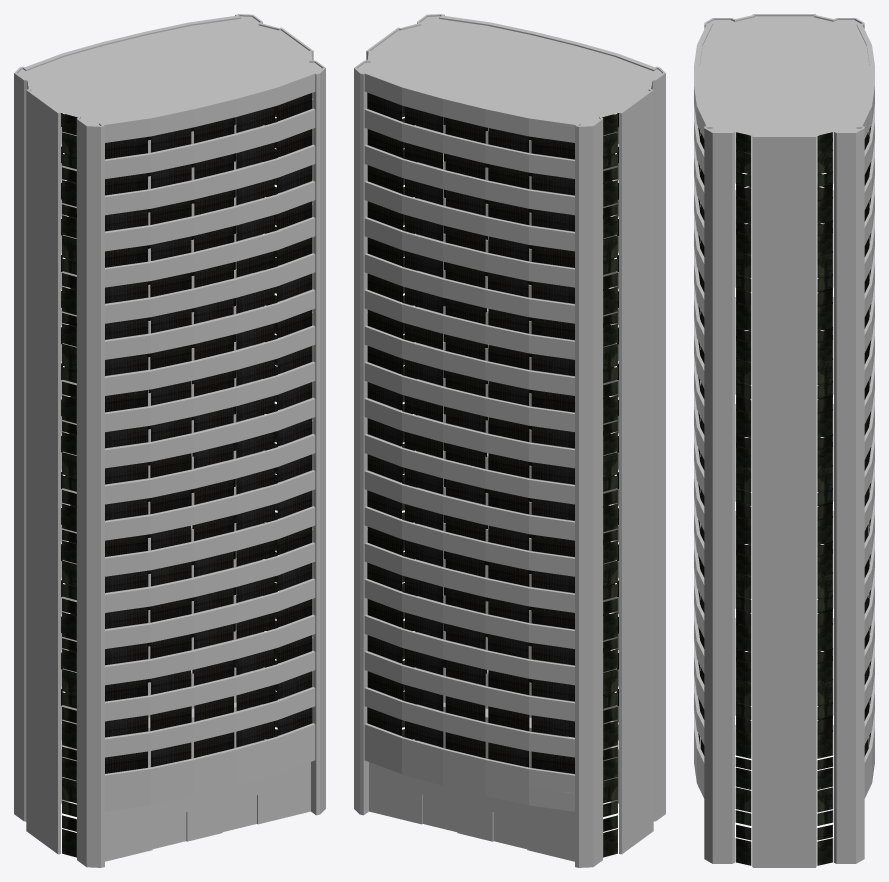
3 renders of one model, left to right at view 1: azimuth 30°, elevation 25°; view 2: azimuth 150°, elevation 25°; view 3: azimuth 270°, elevation 25°, orthographic.
Visible parts, largest first — view 1: BC-059; view 2: BC-059; view 3: BC-059.
Boxes of the visible parts, box(x1,y1,x2,y2) form: BC-059: box(14, 14, 325, 867); BC-059: box(354, 14, 665, 867); BC-059: box(694, 14, 874, 867).
Size of what is drawn, in the model's own units: 22.21 by 61.5 by 13.8.
